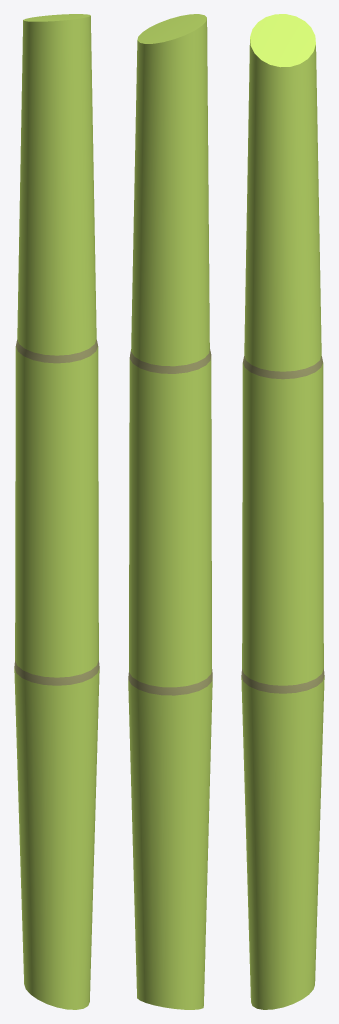
The model's file is BambuV4.fbx.
The picture shows the model from 3 angles, left to right: view 1: azimuth 90°, elevation 25°; view 2: azimuth 150°, elevation 25°; view 3: azimuth 270°, elevation 25°; orthographic projection. The views are drawn at different scales.
Visible parts, largest first — view 1: Rama_Bambu3; view 2: Rama_Bambu3; view 3: Rama_Bambu3.
Part boxes in pixels (x1,y1,x2,y2): Rama_Bambu3: [14, 14, 99, 1009]; Rama_Bambu3: [128, 14, 212, 1009]; Rama_Bambu3: [241, 14, 324, 1009].
Bounding box in the file's own units: 0.465 × 6 × 0.465.
